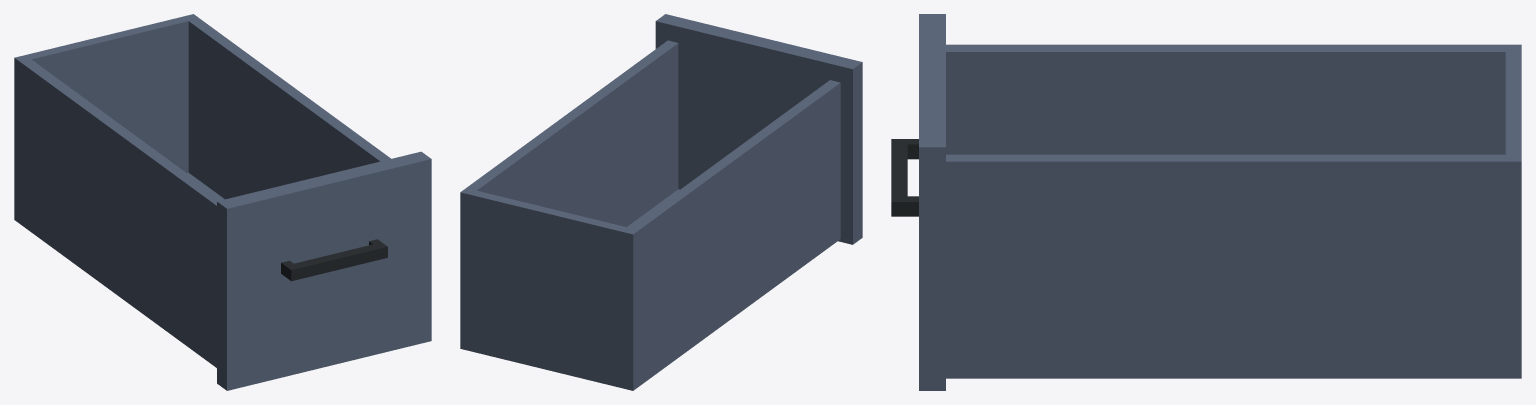
The model's file is Door1_C4_07.fbx.
3 views of the same model, side by side, from view 1: azimuth 30°, elevation 25°; view 2: azimuth 150°, elevation 25°; view 3: azimuth 270°, elevation 25° (orthographic). The views are drawn at different scales.
Parts seen in each view (by area): view 1: Door1_C4_07; view 2: Door1_C4_07; view 3: Door1_C4_07.
Boxes of the visible parts, box(x1,y1,x2,y2) form: Door1_C4_07: box(14, 14, 431, 390); Door1_C4_07: box(460, 14, 862, 390); Door1_C4_07: box(891, 14, 1521, 390).
Size of the model in its own units: 29 by 24.68 by 57.89.
